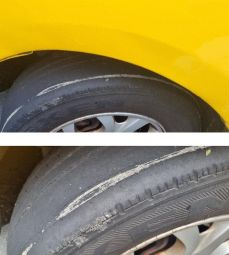bad_condition: (6, 149, 229, 255), (4, 57, 173, 132)
